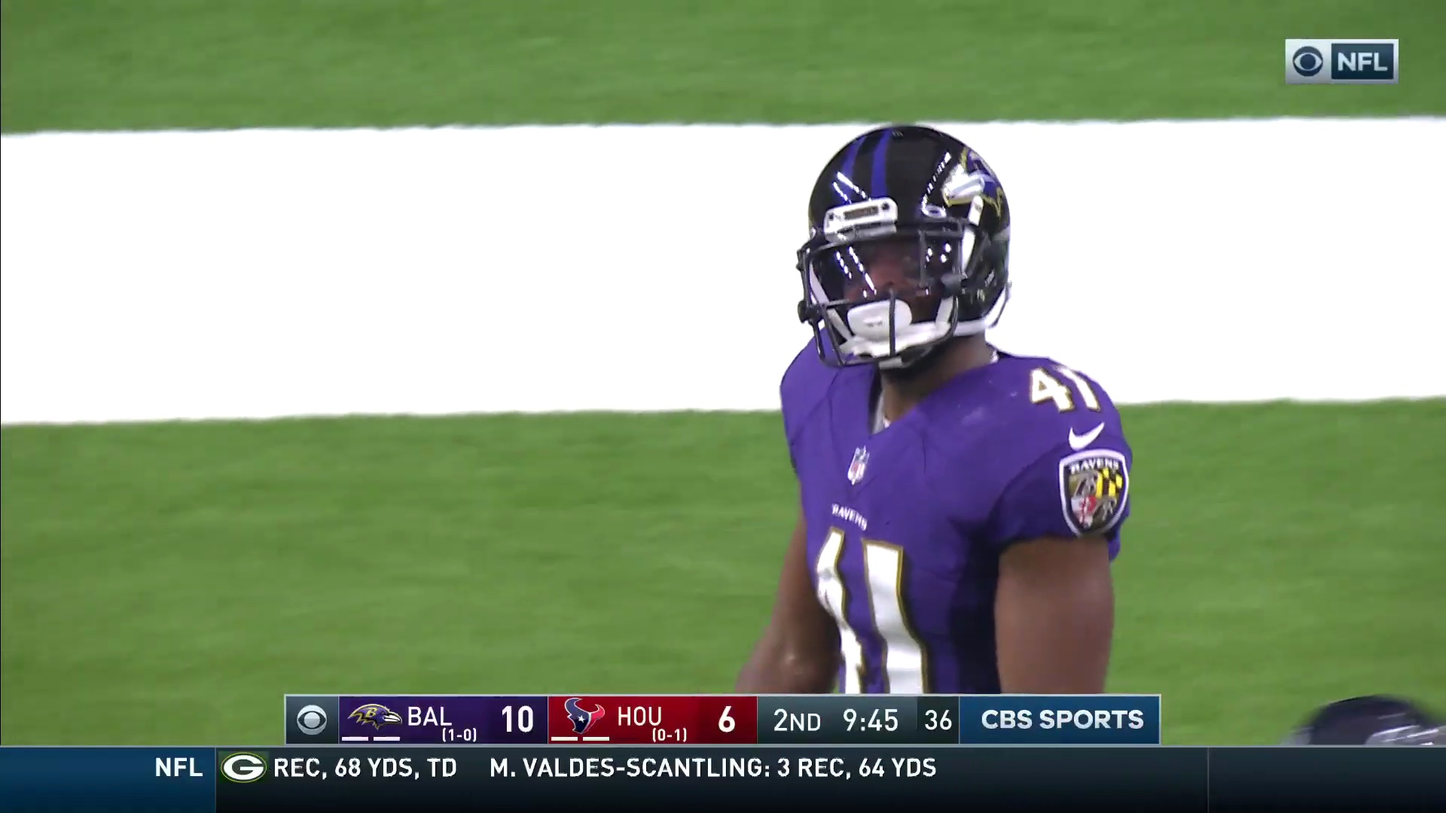Player: (772, 174, 1031, 692)
